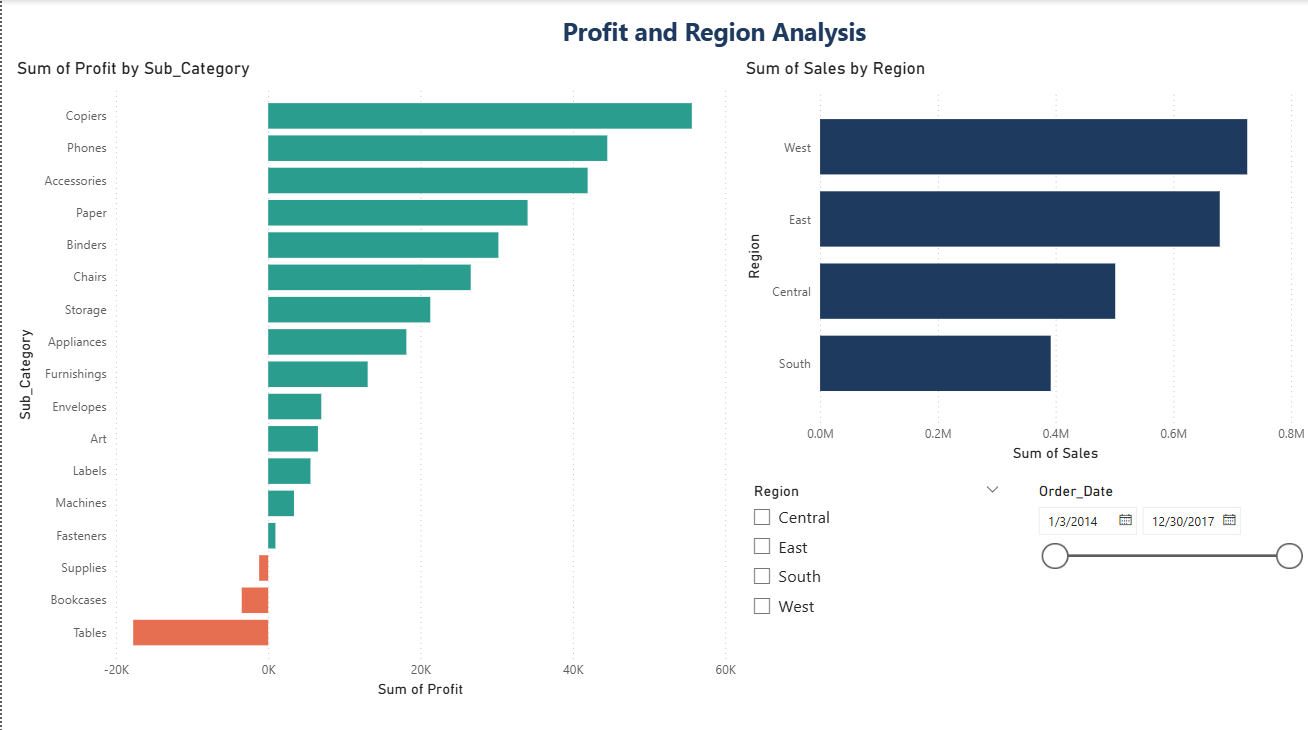

This screenshot's page, from the dashboard's own definition file:
{"tool":"powerbi","page":{"name":"Page 2","canvas":[1280,720],"ordinal":1},"visuals":[{"type":"clusteredBarChart","fields":{"Category":["superstore_cleaned.Sub_Category"],"Y":["Sum(superstore_cleaned.Profit)"]},"box":[9.8,56.3,712.9,631],"z":0},{"type":"clusteredBarChart","fields":{"Category":["superstore_cleaned.Region"],"Y":["Sum(superstore_cleaned.Sales)"]},"box":[722.7,56.3,557.6,399.9],"z":1000},{"type":"slicer","fields":{"Values":["superstore_cleaned.Region"]},"box":[722.7,467.1,265.4,253.1],"z":2000},{"type":"slicer","fields":{"Values":["superstore_cleaned.Order_Date"]},"box":[1001.5,467.1,278.8,253.1],"z":3000},{"type":"textbox","box":[0,9.8,1280.3,46.5],"z":3001}]}

Visuals, with their boxes in screenshot pixels (x1, y1, x2, y2), scaled from the page's 1280x720 canvas onto the 1308x730 screenshot:
clusteredBarChart - superstore_cleaned.Sub_Category x Sum(superstore_cleaned.Profit): {"left": 10, "top": 57, "right": 739, "bottom": 697}
clusteredBarChart - superstore_cleaned.Region x Sum(superstore_cleaned.Sales): {"left": 739, "top": 57, "right": 1307, "bottom": 463}
slicer - superstore_cleaned.Region: {"left": 739, "top": 474, "right": 1010, "bottom": 729}
slicer - superstore_cleaned.Order_Date: {"left": 1023, "top": 474, "right": 1307, "bottom": 729}
textbox: {"left": 0, "top": 10, "right": 1307, "bottom": 57}
